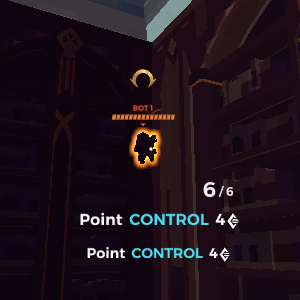model: (132, 127, 161, 168)
